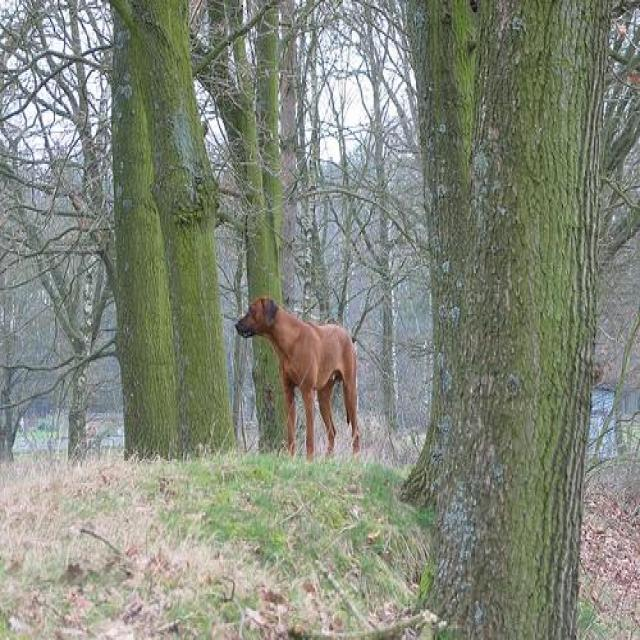rhodesian_ridgeback: (235, 295, 365, 466)
